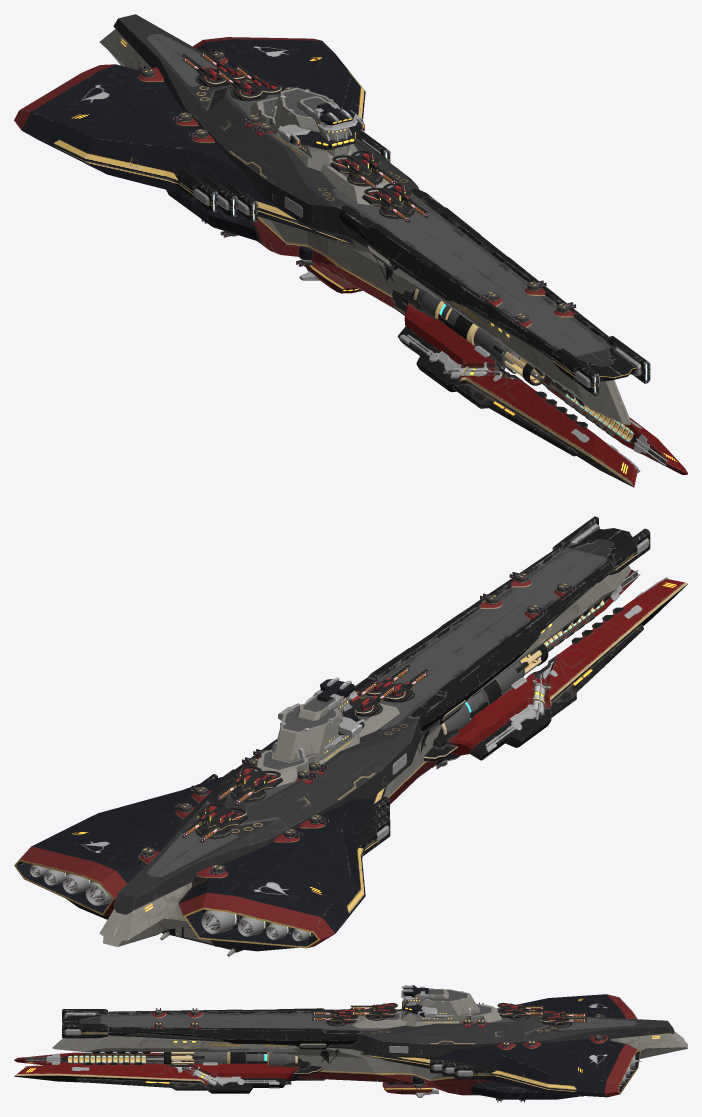
3 renders of one model, top to bottom at view 1: azimuth 30°, elevation 25°; view 2: azimuth 150°, elevation 25°; view 3: azimuth 270°, elevation 25°, orthographic. The views are drawn at different scales.
Parts seen in each view (by area): view 1: HSMS_Aquamarine; view 2: HSMS_Aquamarine; view 3: HSMS_Aquamarine.
Part boxes in pixels (<box>): HSMS_Aquamarine: <box>14,14,687,487</box>; HSMS_Aquamarine: <box>14,516,687,956</box>; HSMS_Aquamarine: <box>14,985,687,1102</box>.
Size of what is drawn, in the model's own units: 56.57 by 29.39 by 172.
7 materials, 7 textured.
